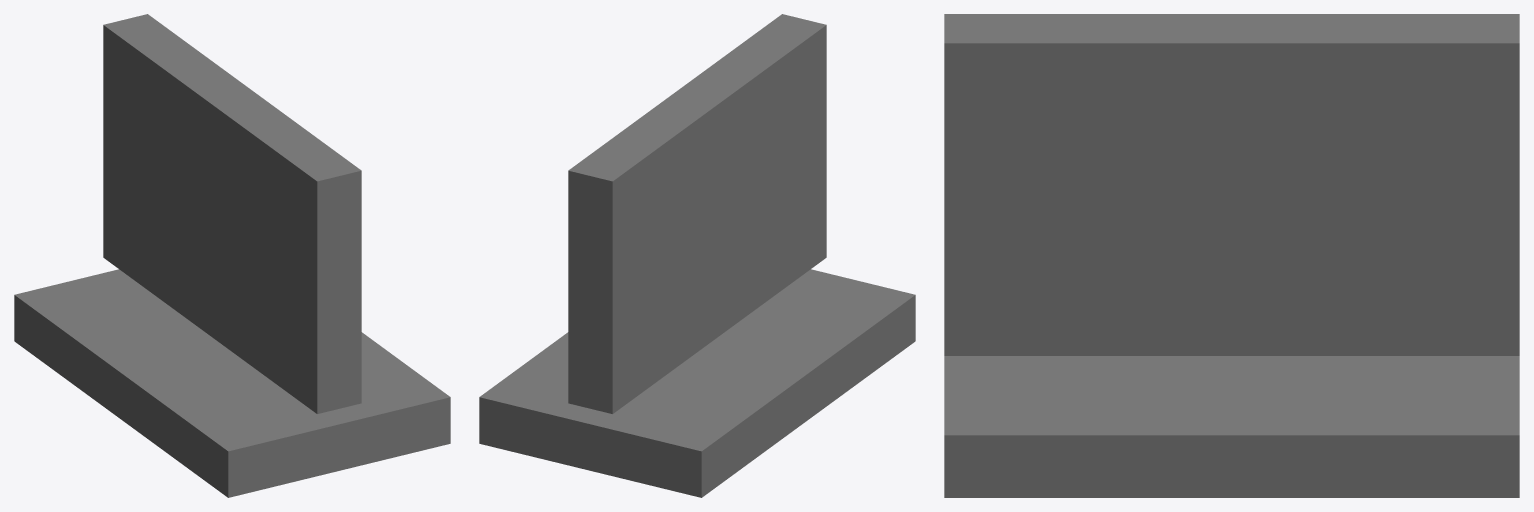
File: Т3_Кромки.glb
3 views of the same model, side by side, from view 1: azimuth 30°, elevation 25°; view 2: azimuth 150°, elevation 25°; view 3: azimuth 270°, elevation 25° (orthographic). The views are drawn at different scales.
Parts seen in each view (by area): view 1: node_id3; view 2: node_id3; view 3: node_id3.
Boxes of the visible parts, x1,y1,x2,y2 form: node_id3: (14,14,450,497); node_id3: (479,14,915,497); node_id3: (944,14,1519,497).
Bounding box in the file's own units: 0.4042 × 0.512 × 0.6737.
Materials: 1 (1 with a texture image).
